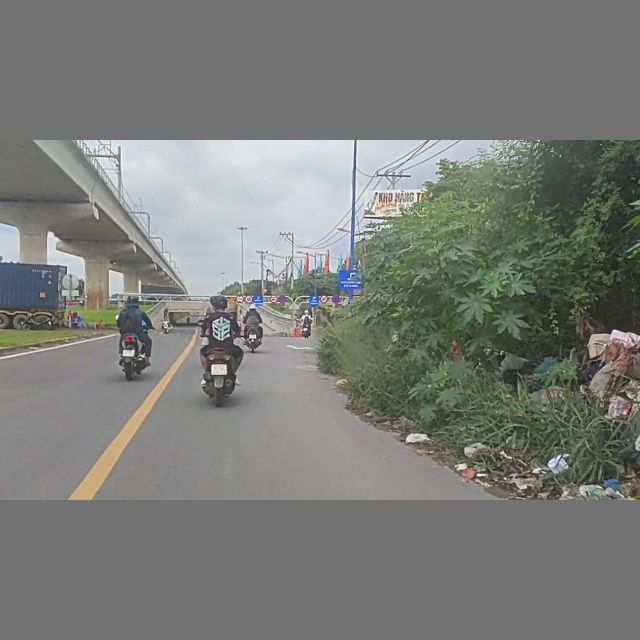P.107: (269, 294, 278, 303), (319, 295, 329, 303)
P.117*: (235, 295, 244, 303)
P.127*40: (245, 295, 253, 304)
P.130: (278, 295, 287, 303), (333, 295, 341, 303)
